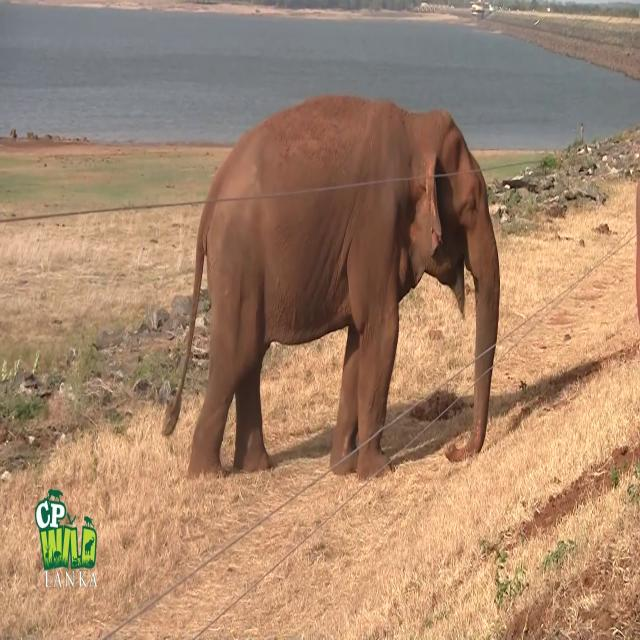Elephant: (161, 93, 501, 482)
